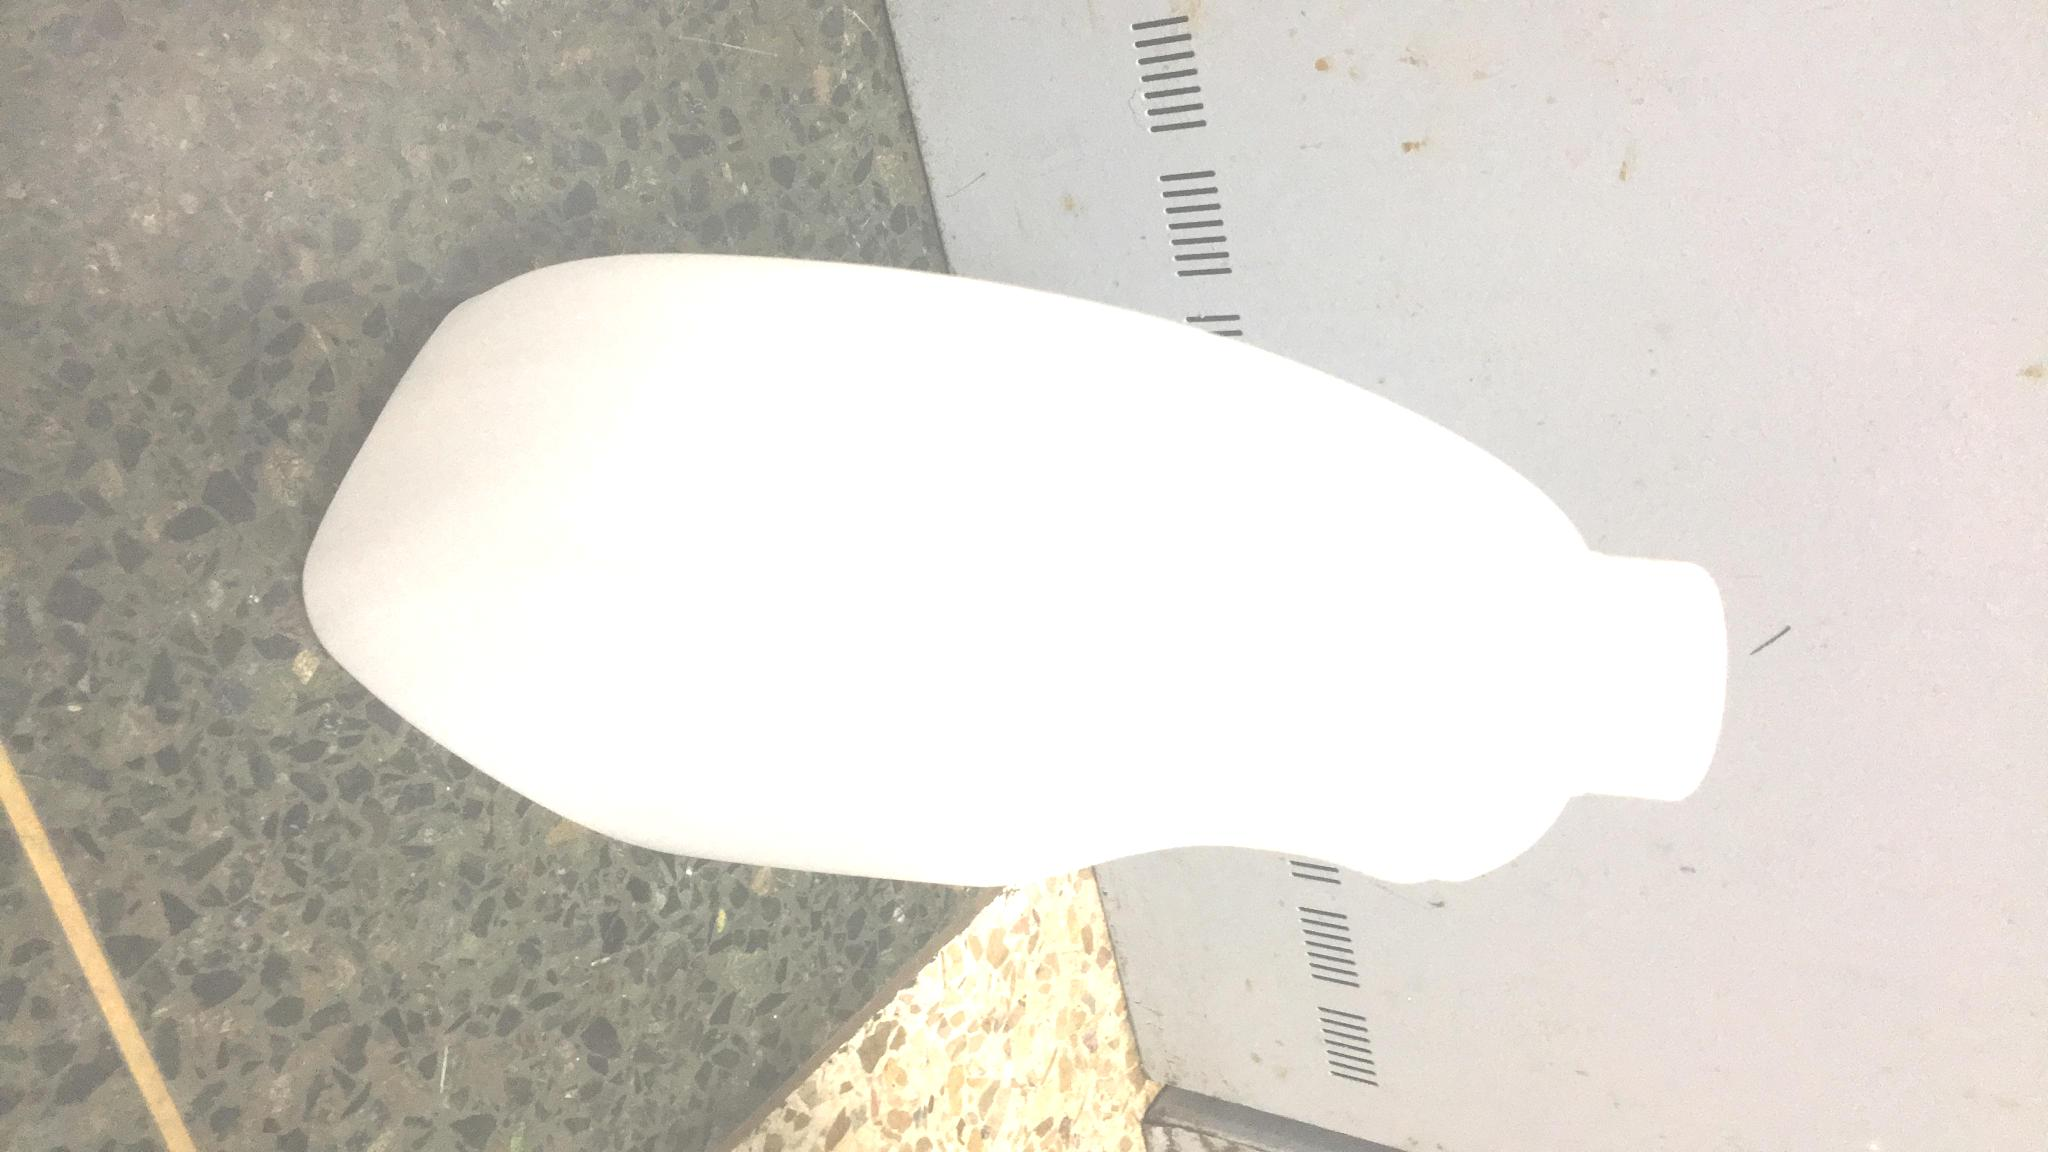bottle: (290, 229, 1729, 911)
